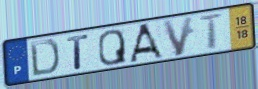A: (128, 22, 165, 64)
D: (28, 38, 62, 78)
Q: (97, 28, 129, 67)
T: (198, 12, 226, 51), (65, 33, 91, 71)
V: (160, 14, 196, 58)
